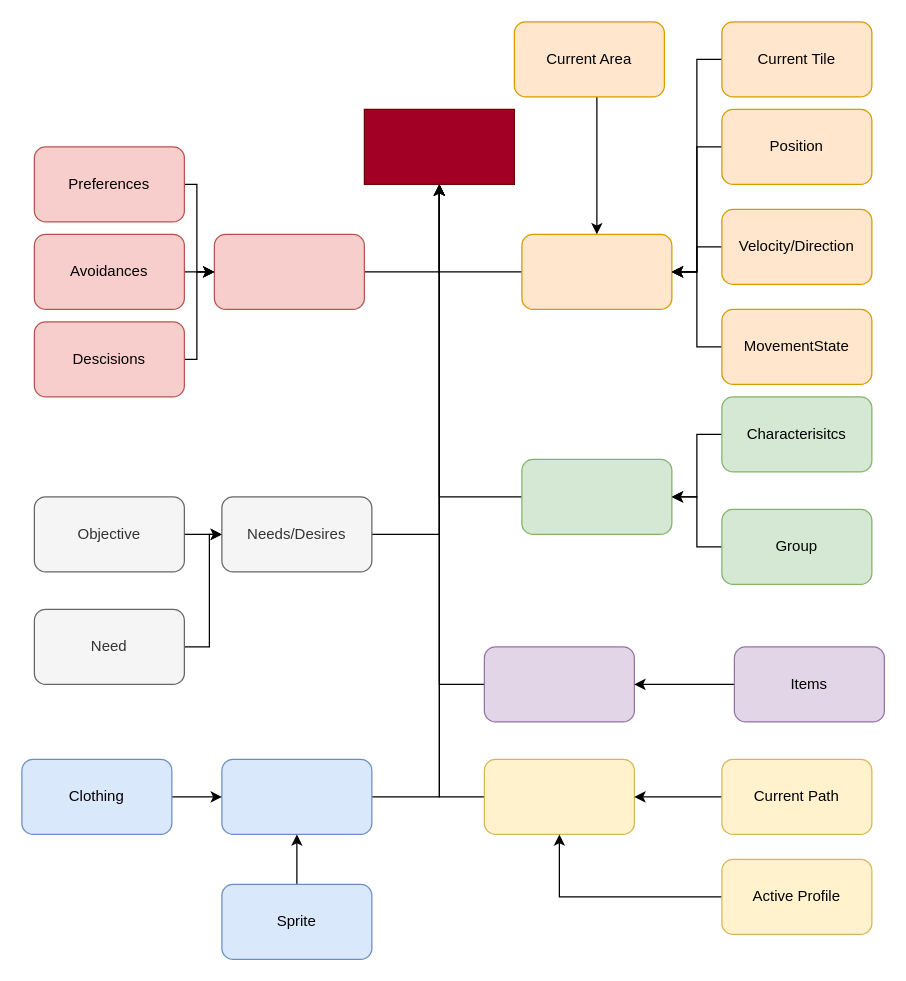
This 906x981 diagram has some shape labels left out. The shapes that lost their labels are listed below. From the top down, each one's centre as x and y in pixels, then its label:
[438,146]: Agents
[288,271]: Personality
[596,271]: Position/Movement
[596,496]: Identity
[558,684]: Inventory
[296,796]: Appearance
[558,796]: Pathing
